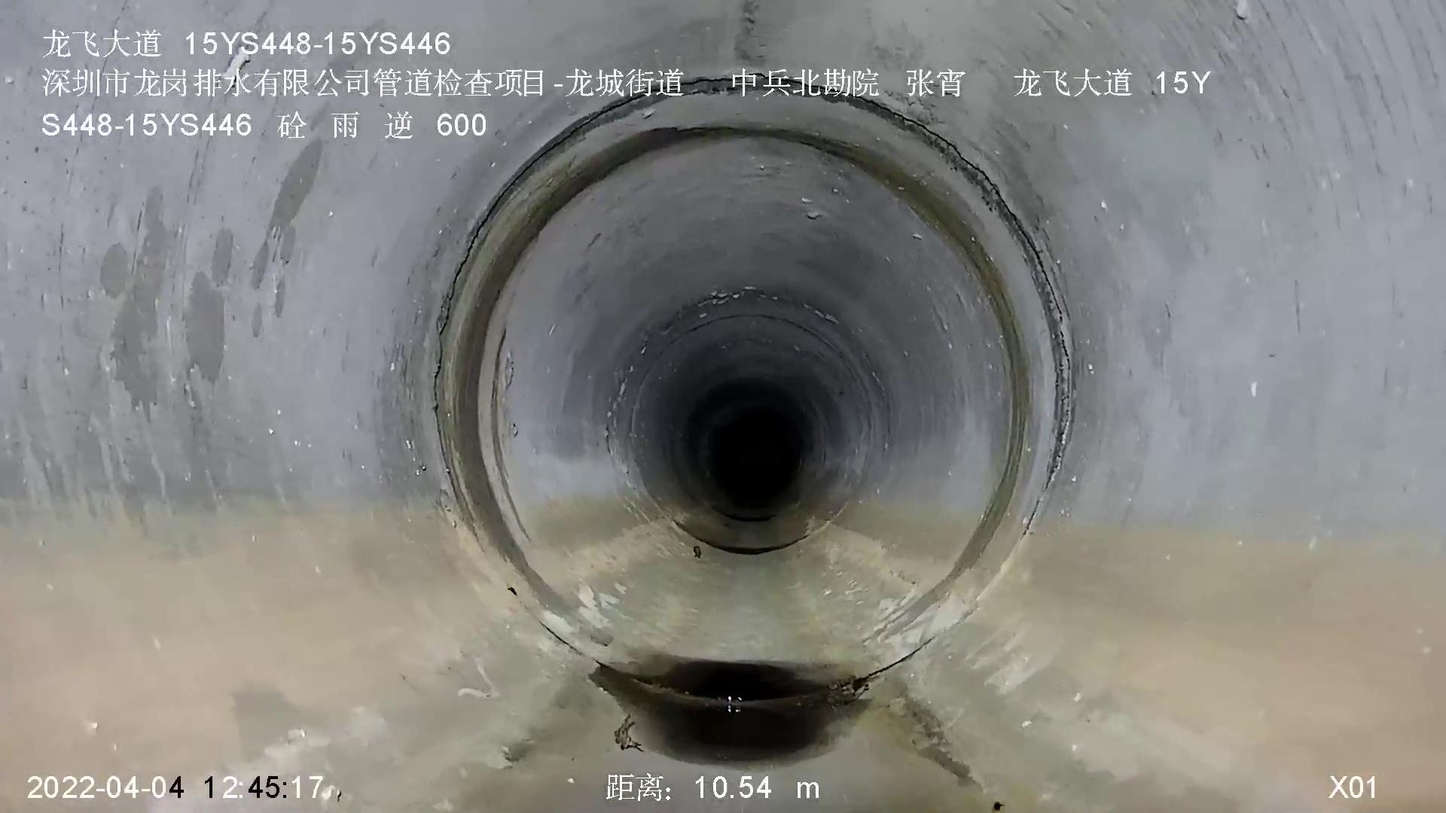CKTJ: (438, 69, 1076, 492)
